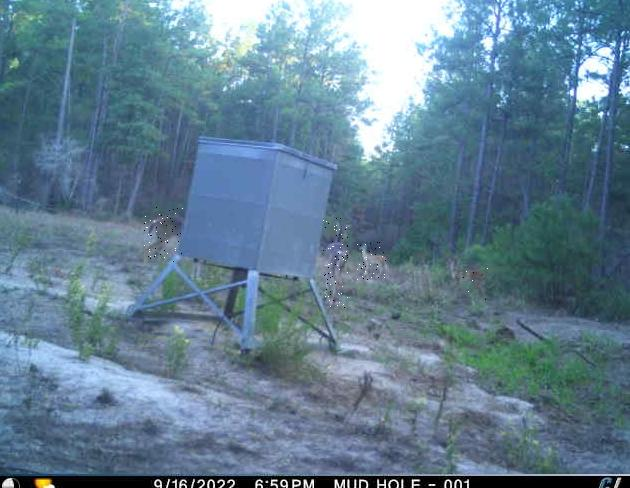Deer: (323, 218, 348, 309), (145, 208, 184, 265), (358, 242, 389, 282), (458, 265, 489, 304)
